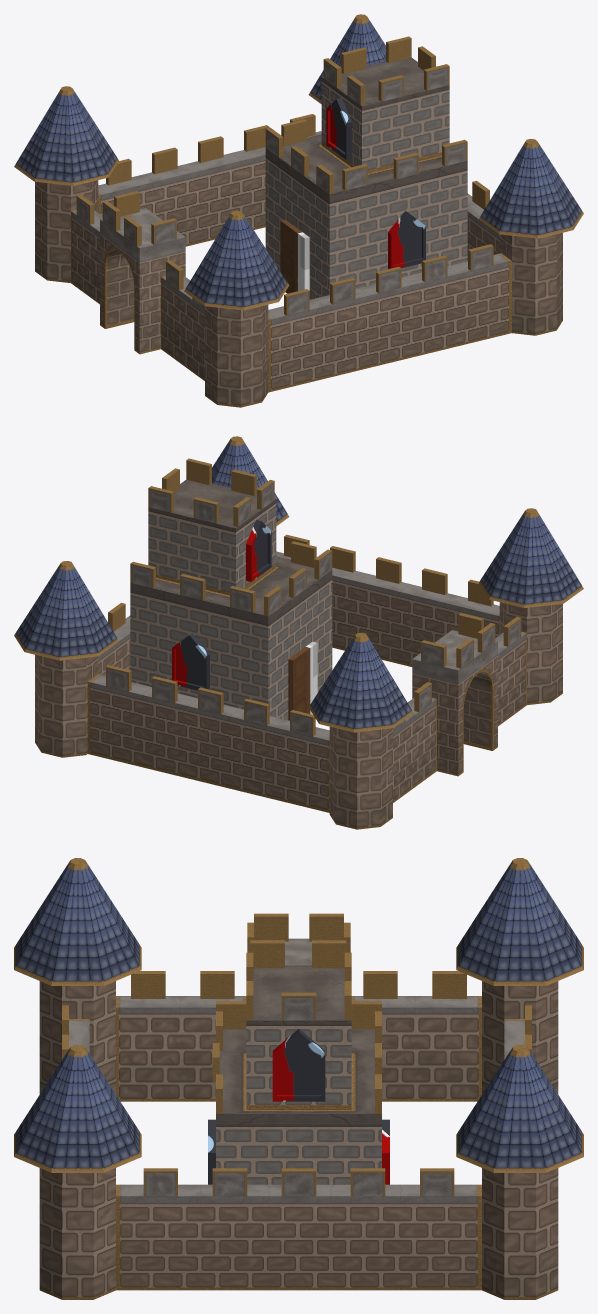
The model's file is Castle_building.fbx.
The picture shows the model from 3 angles, top to bottom: view 1: azimuth 30°, elevation 25°; view 2: azimuth 150°, elevation 25°; view 3: azimuth 270°, elevation 25°; orthographic projection. The views are drawn at different scales.
Visible parts, largest first — view 1: Walls_GRP1; view 2: Walls_GRP1; view 3: Walls_GRP1.
Part boxes in pixels (box(x1,y1,x2,y2)): Walls_GRP1: box(14, 14, 583, 407); Walls_GRP1: box(14, 436, 583, 829); Walls_GRP1: box(14, 858, 583, 1299).
Size of the model in its own units: 8.25 by 4.43 by 8.25.
